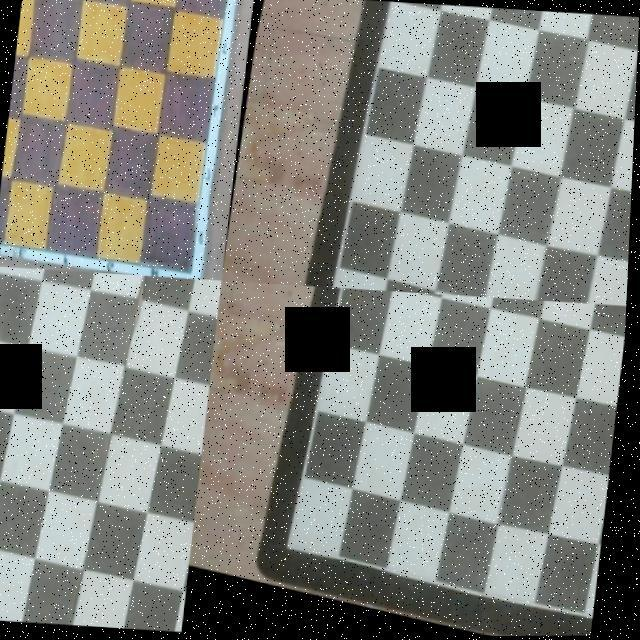chess-table-corners: (288, 554, 295, 562), (593, 630, 597, 636), (192, 272, 195, 278), (330, 286, 332, 288), (628, 304, 629, 306)
